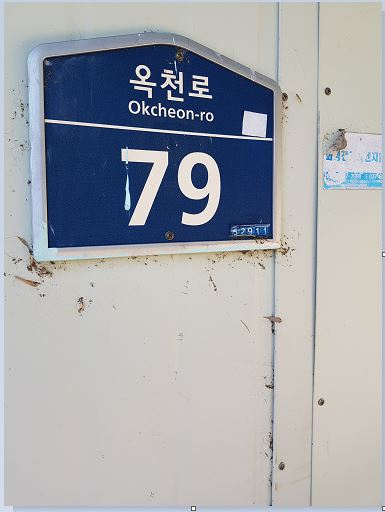building_license_plate1: (27, 33, 283, 262)
